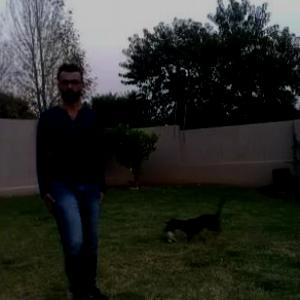follow: (38, 61, 110, 299)
